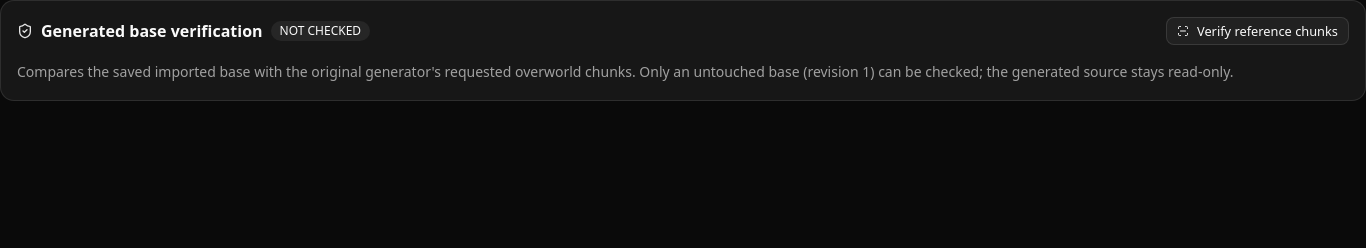
Test case: VanillaParityPanel › reports a matching generated base
Click the button with aria-label "Verify generated base" at [1258, 31], box [1166,17,1349,45]
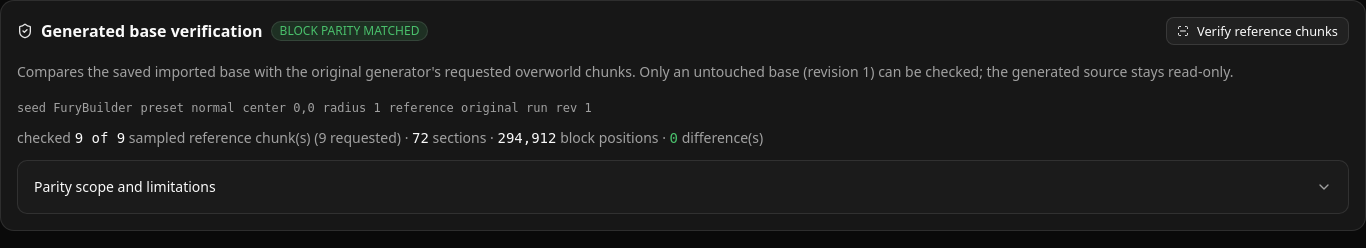
Result: the text "Block parity matched" is shown at [271,21,428,41]
Result: the element with test id "vanilla-parity-counts" shows "checked 9 of 9 sampled reference chunk" at [17,128,763,147]
Result: the text "reference original run" is shown at [389,100,548,116]
